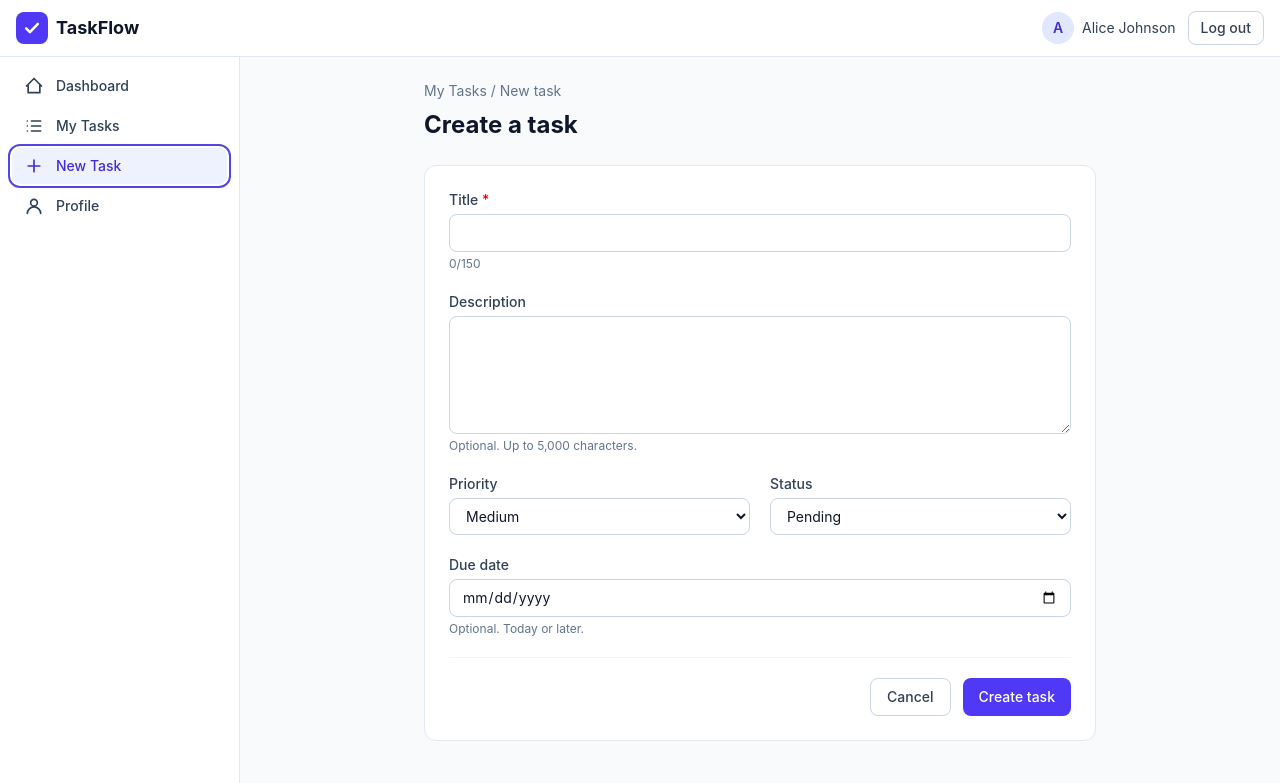
Scenario: GitHub Pages demo › changes status from the list, edits, filters by search, and deletes with confirmation
Earlier steps of the test are not shown.
Later steps or results of the test are not shown.
Type "Zebra checklist" into the field labelled "Title *" at (760, 233), box [449, 214, 1071, 252]
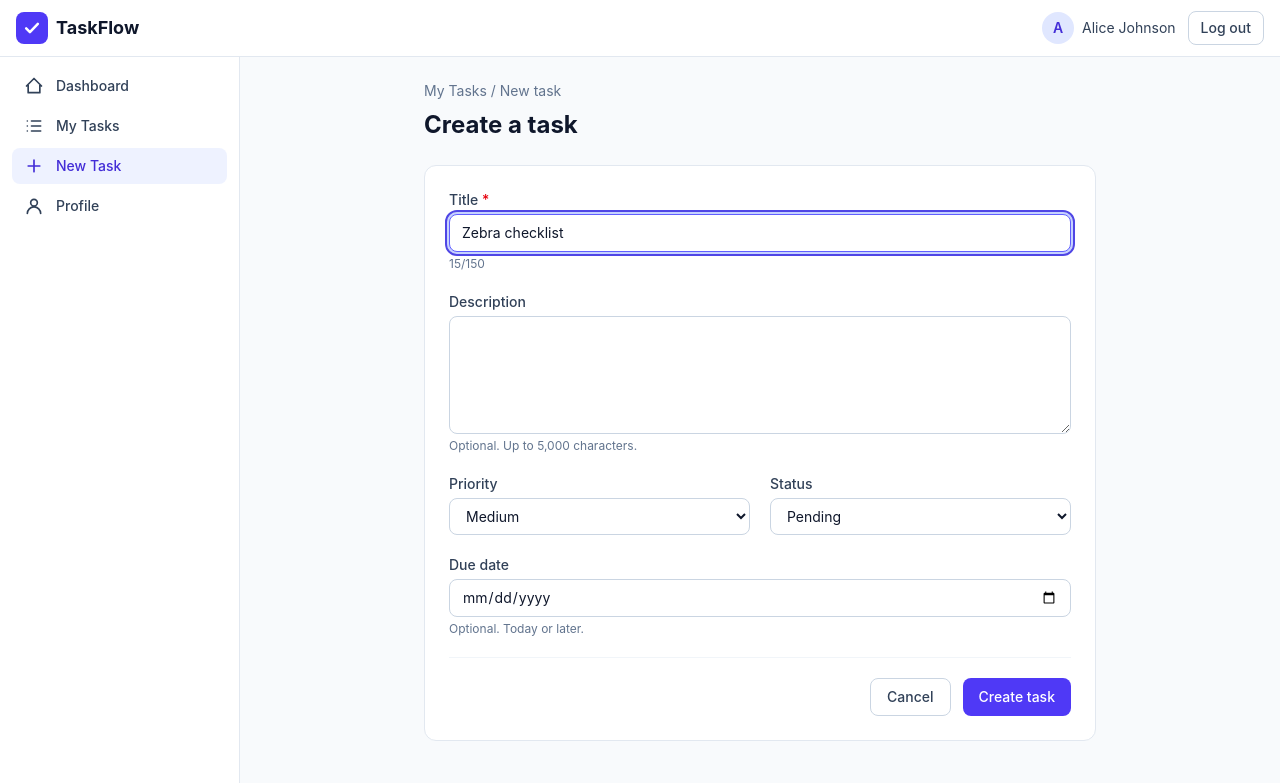
Click the button "Create task" at (1017, 697), box [962, 678, 1071, 716]
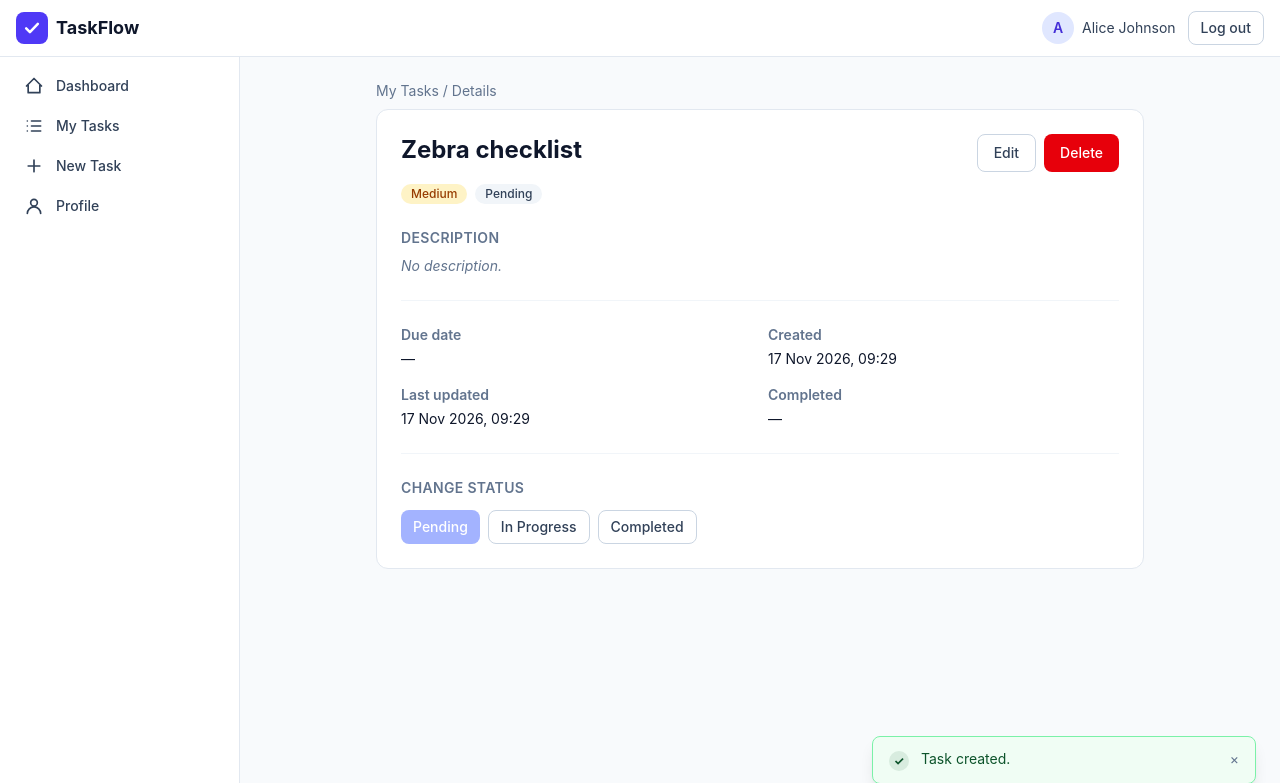
Result: the heading "Zebra checklist" is shown at [401, 134, 582, 166]
Click the link "My Tasks" below "Dashboard" at (72, 126), box [24, 116, 120, 136]
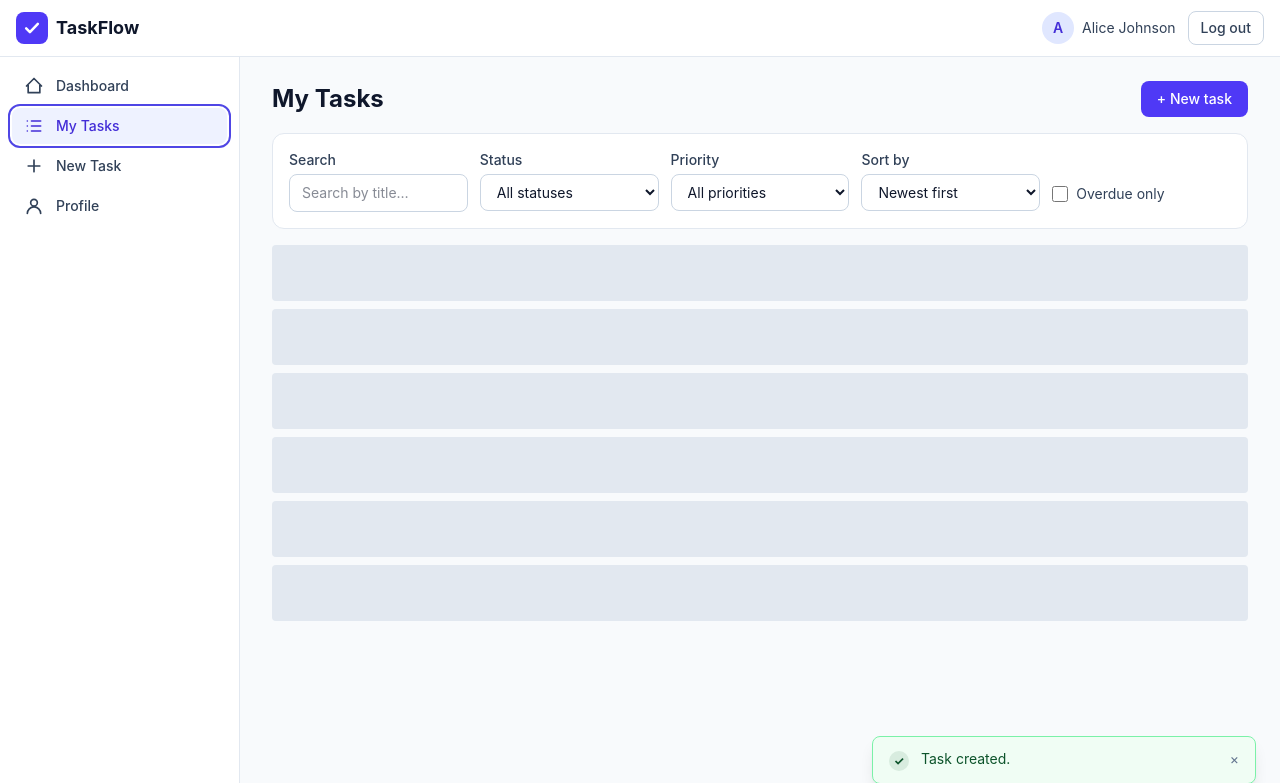
Type "Zebra" into the search field labelled "Search" at (378, 193), box [289, 174, 468, 212]
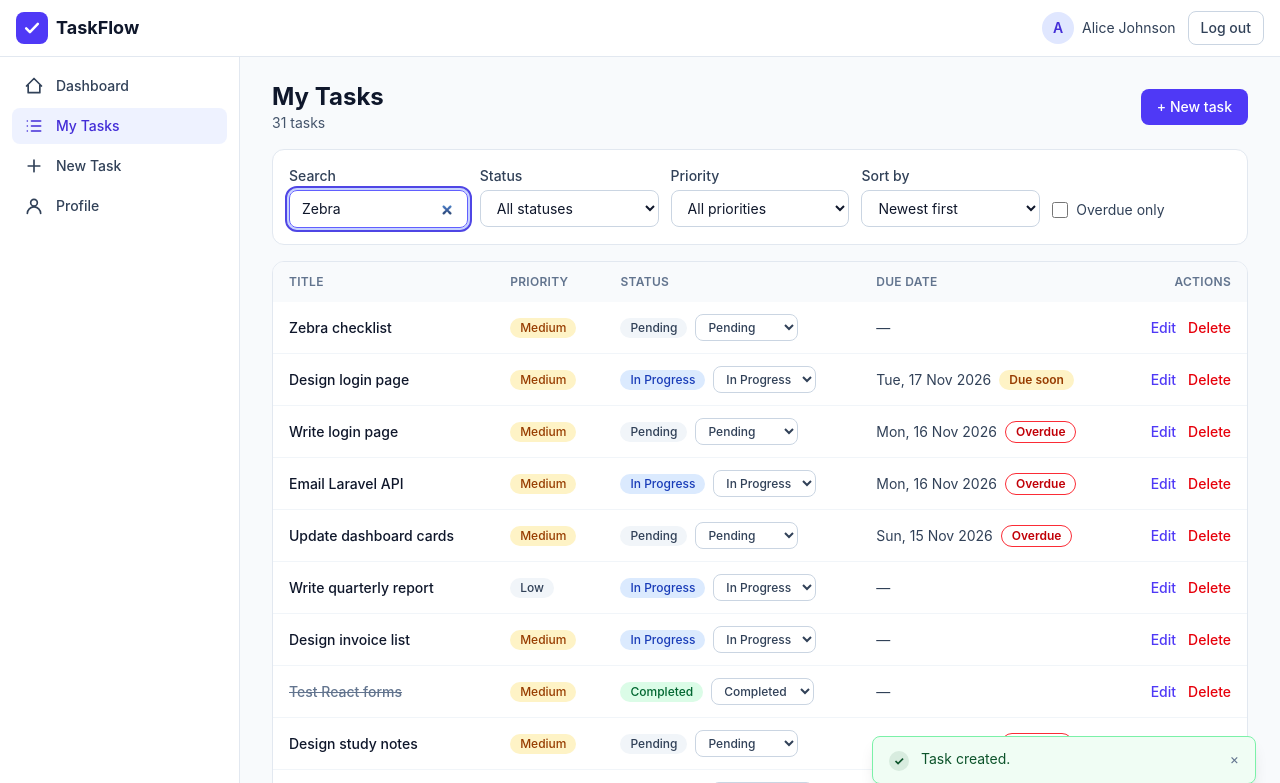
Result: the link "Zebra checklist" is shown at [289, 318, 392, 336]
Select "Completed" in the dropdown named "Status of Zebra checklist" at (747, 328), box [696, 314, 798, 341]
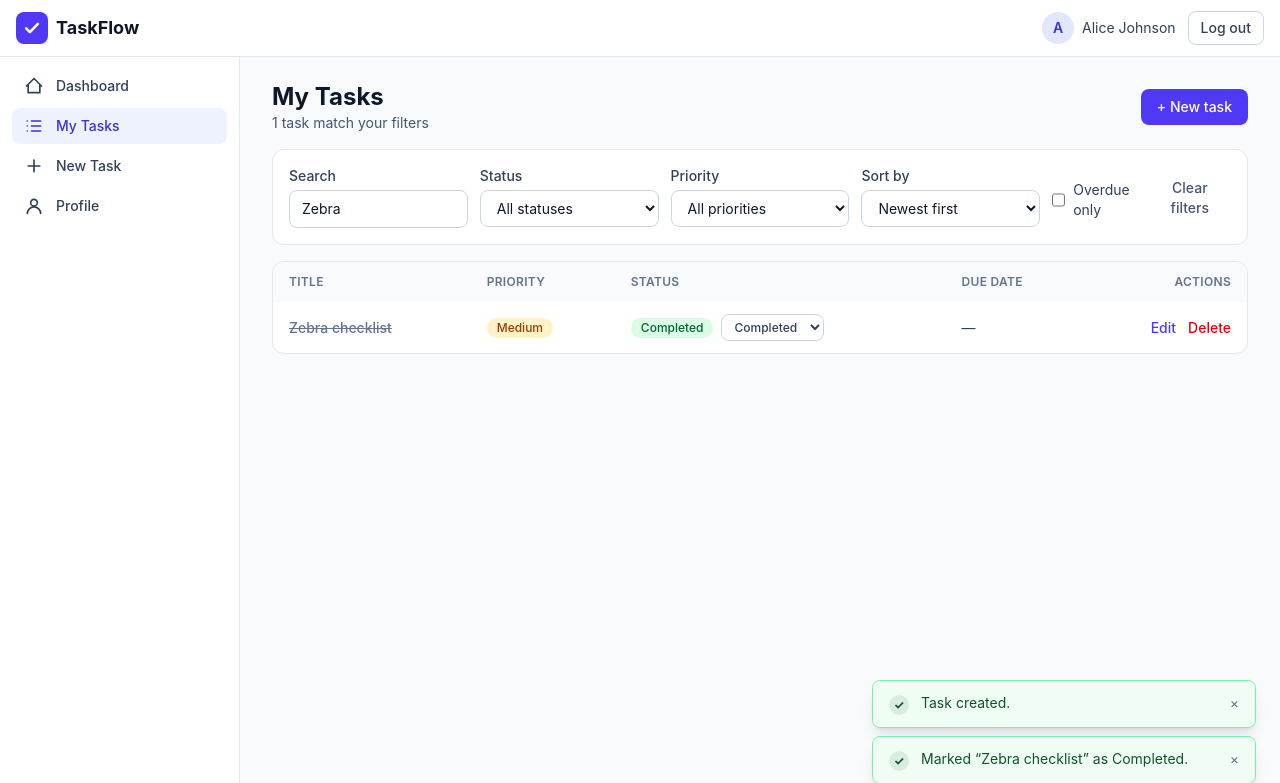
Click the button "Delete" at (1210, 328), box [1188, 318, 1231, 338]
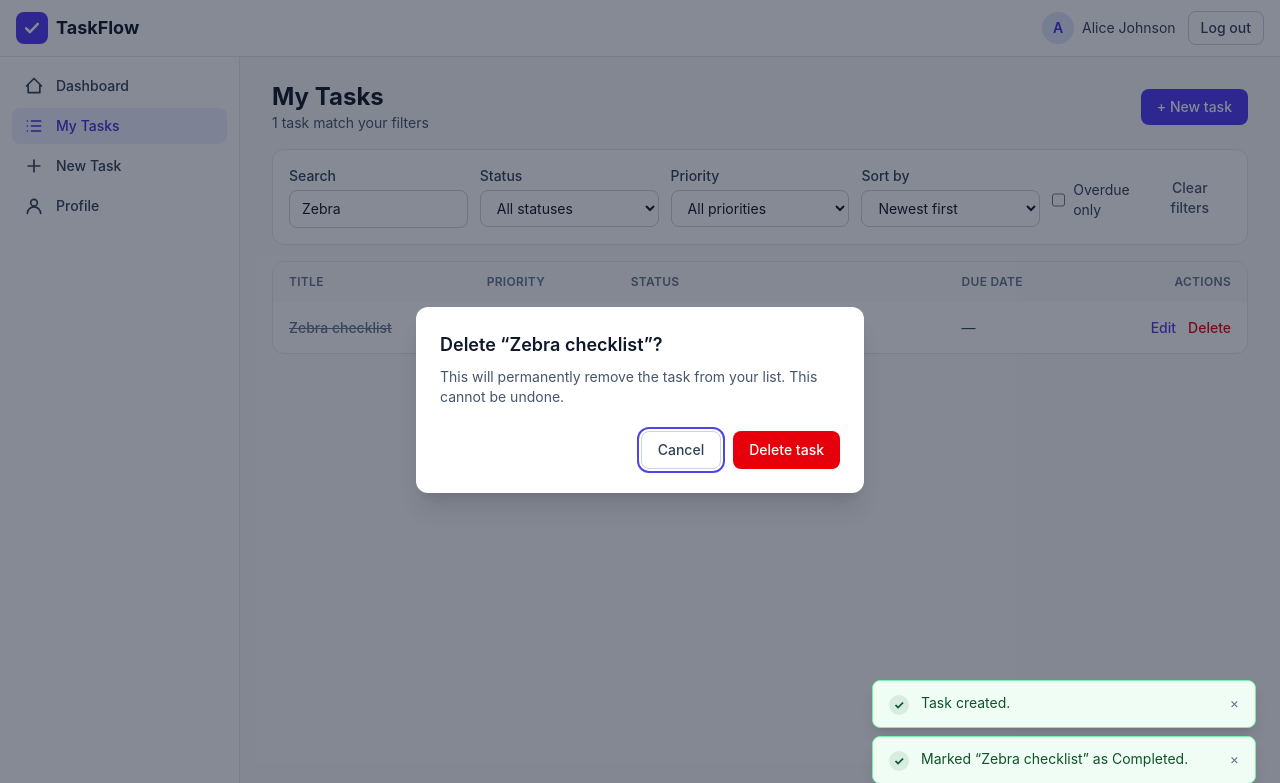
Result: the heading "Delete “Zebra checklist”?" is shown at [440, 334, 662, 355]
